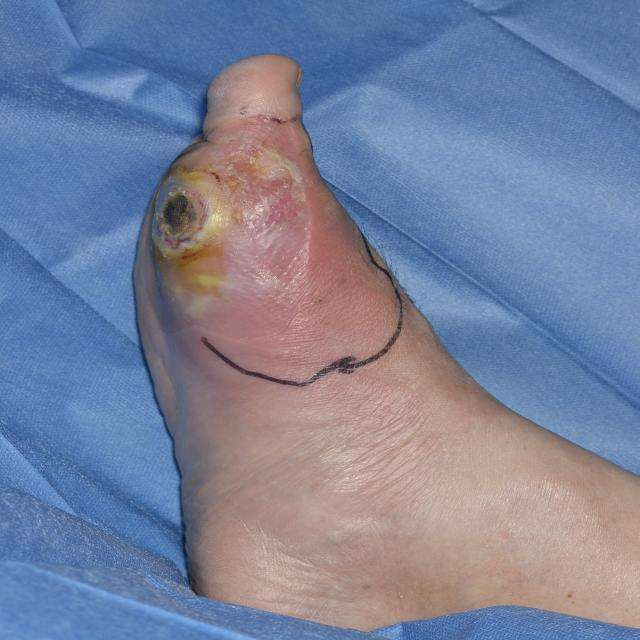wound: (154, 186, 208, 251)
